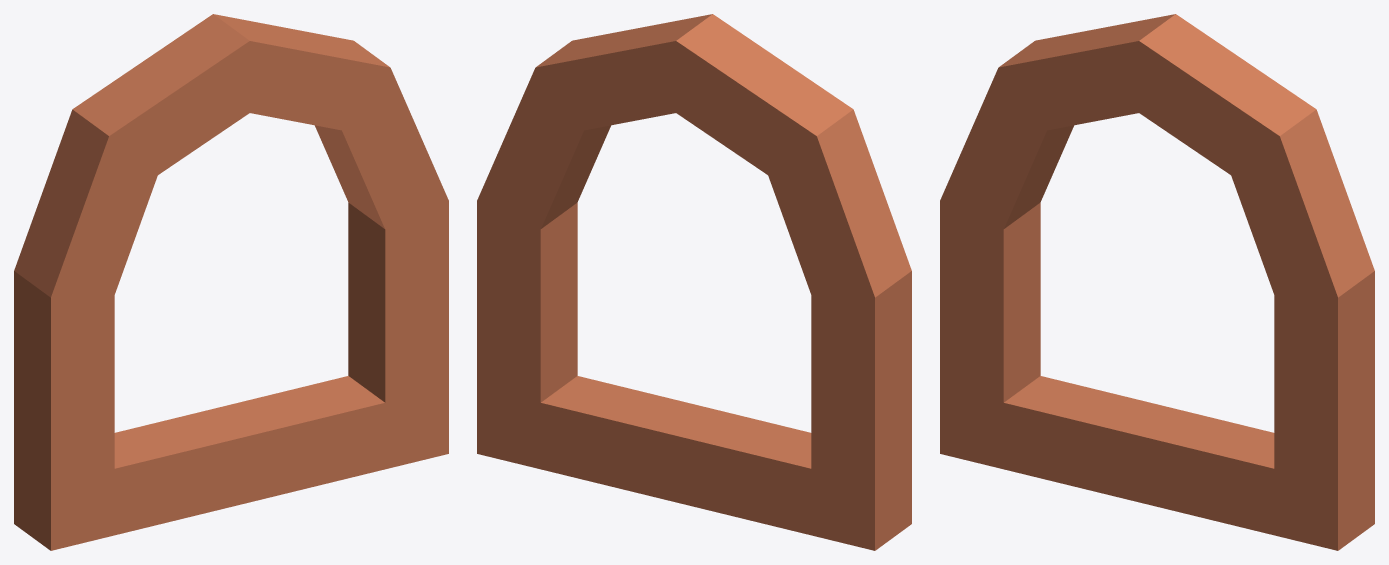
Rendered from window-brown-round-low.obj.
The picture shows the model from 3 angles, left to right: view 1: azimuth 30°, elevation 25°; view 2: azimuth 150°, elevation 25°; view 3: azimuth 330°, elevation 25°; orthographic projection.
Size of the model in its own units: 0.3125 by 0.3462 by 0.05.
